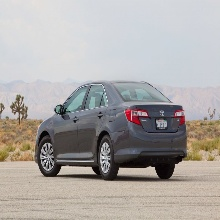no damage: (35, 79, 188, 181)
